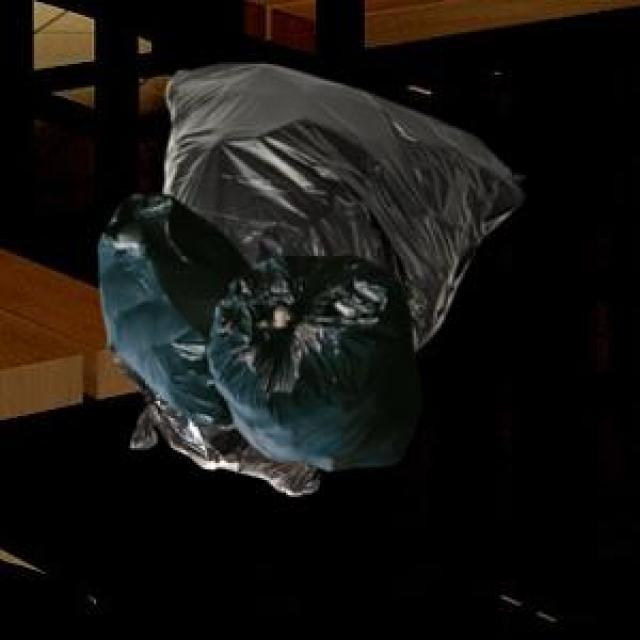waste: (99, 64, 522, 496)
